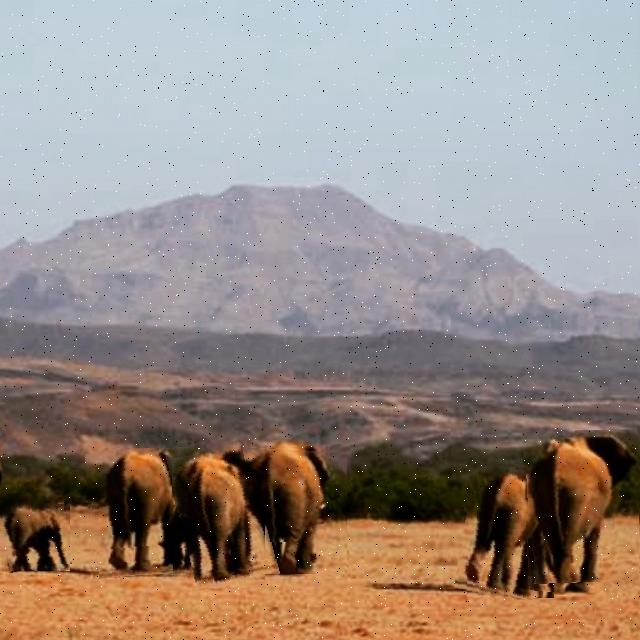elephant: (524, 430, 639, 584), (220, 446, 347, 574), (87, 448, 205, 578), (172, 445, 265, 588), (459, 462, 554, 598), (0, 499, 70, 571)
